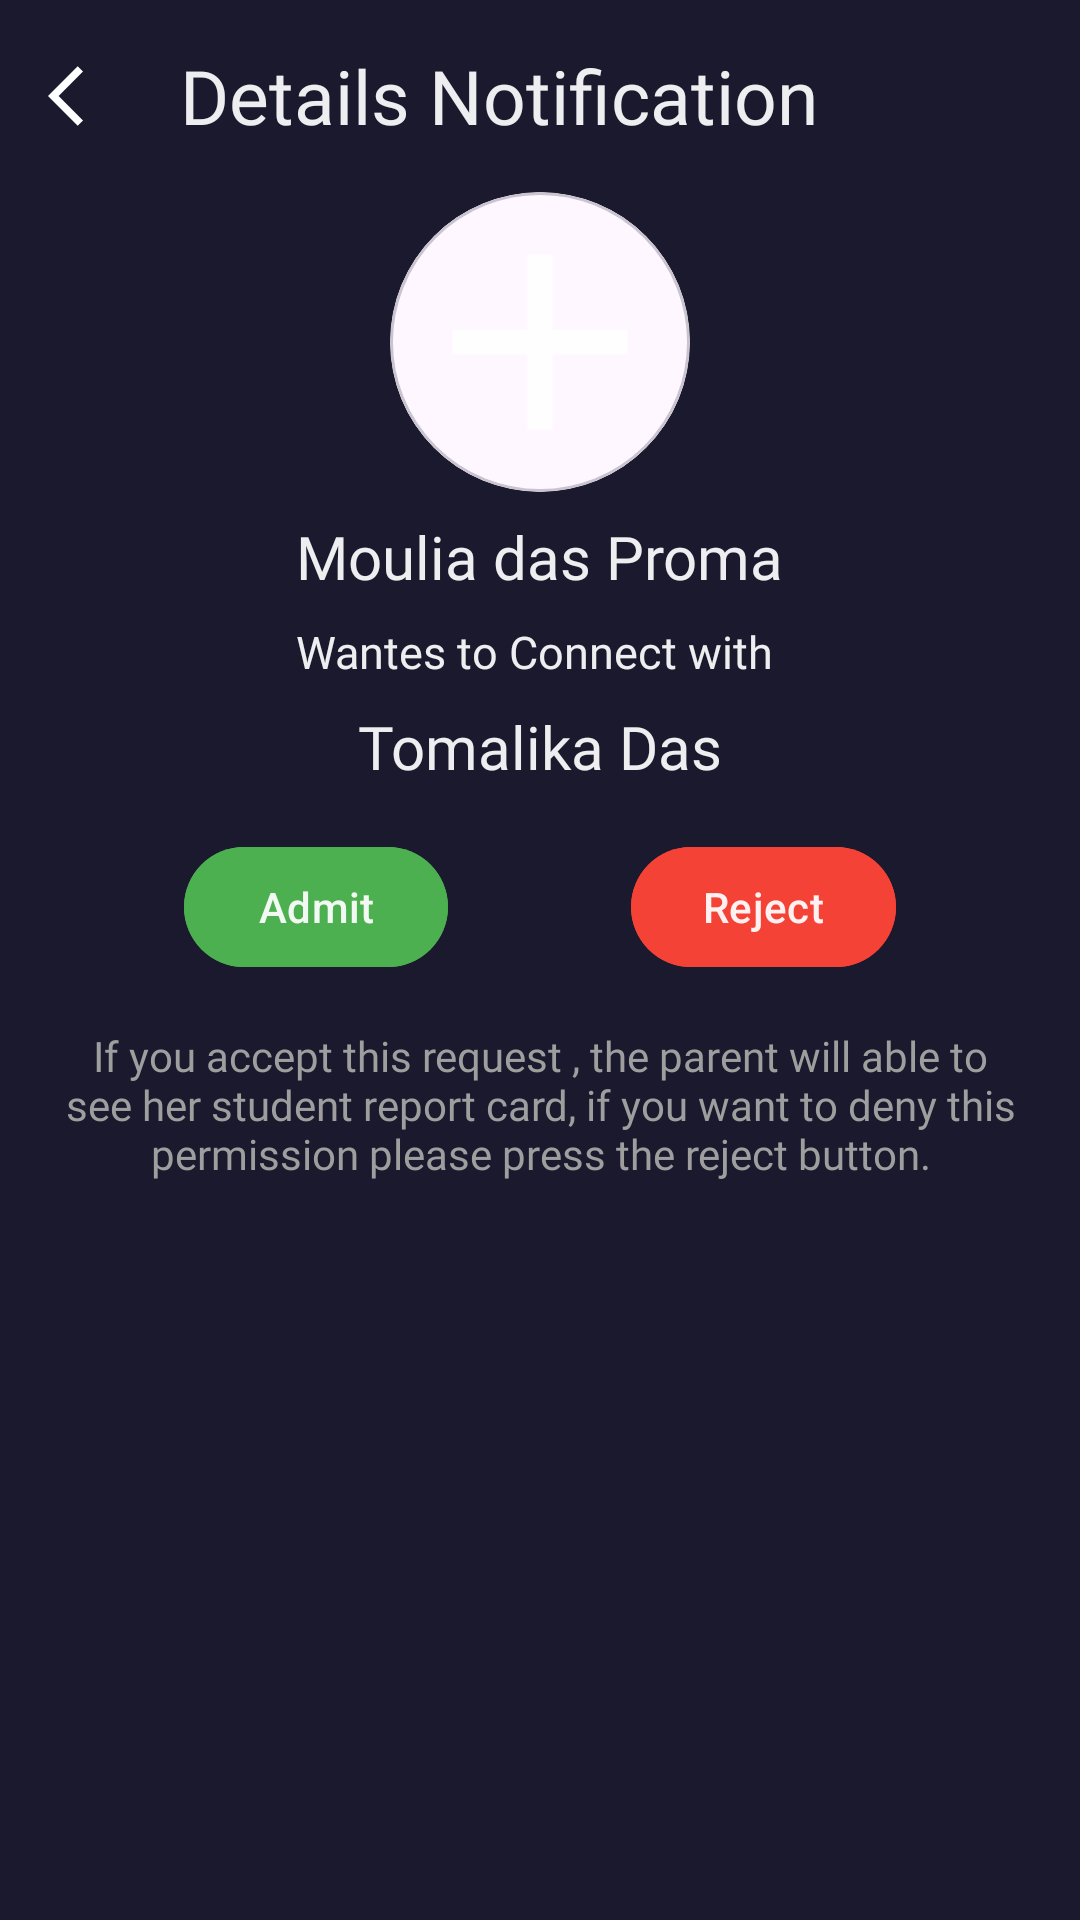

Icons on this 1080×1920 Android screen, each with the point to tap as (x,y):
add: (540,342)
